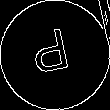P_S: (32, 27, 78, 83)
